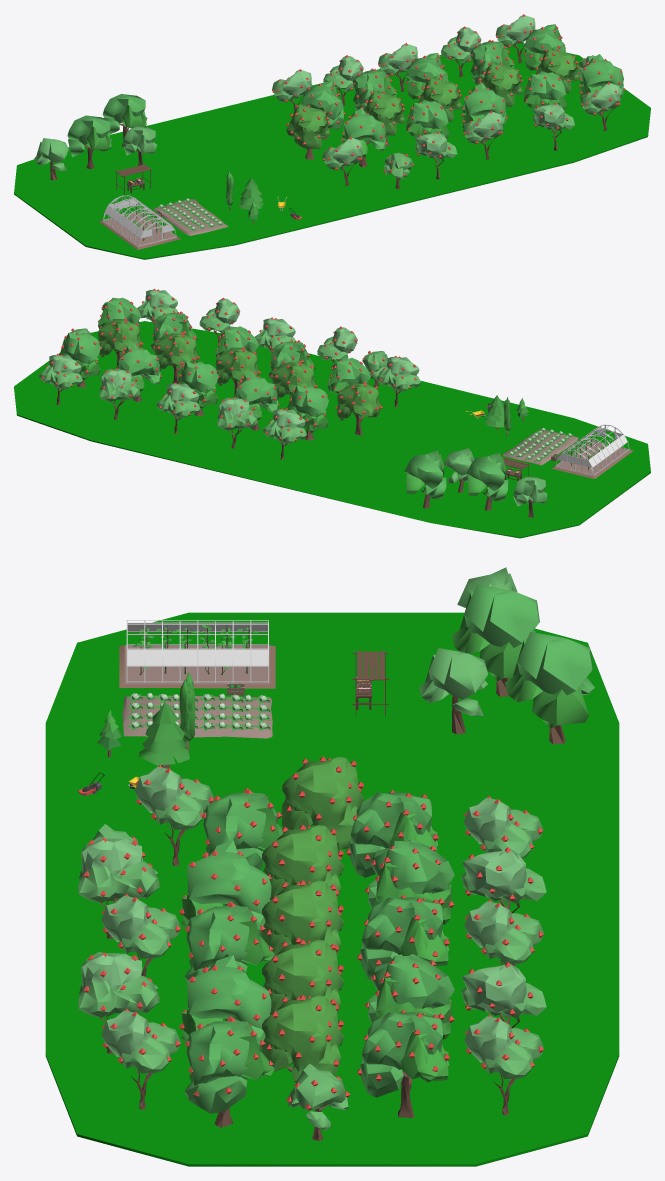
Rendered from barn.glb.
3 views of the same model, one above another, from view 1: azimuth 30°, elevation 25°; view 2: azimuth 150°, elevation 25°; view 3: azimuth 270°, elevation 25° (orthographic). The views are drawn at different scales.
Parts seen in each view (by area): view 1: water_001.004, greenhouse_004.002, plant_004.002, tree_010.013, tree_003.054, tree_003.055, tree_010.012, tree_010.001, tree_010.007, tree_010, tree_010.006, tree_010.014 (+22 smaller); view 2: water_001.004, greenhouse_004.002, tree_003.055, tree_003.054, plant_004.002, tree_010.013, tree_010.014, tree_010.002, tree_010.004, tree_010.005, tree_010.009, tree_010.011 (+22 smaller); view 3: water_001.004, greenhouse_004.002, tree_010.004, tree_003.055, tree_010, tree_003.054, tree_010.003, tree_010.013, tree_010.009, plant_004.002, tree_010.014, tree_010.007 (+24 smaller).
Part boxes in pixels (<box>): water_001.004: <box>14,43,650,259</box>; greenhouse_004.002: <box>99,195,180,249</box>; plant_004.002: <box>154,198,228,235</box>; tree_010.013: <box>286,104,330,159</box>; tree_003.054: <box>67,115,111,169</box>; tree_003.055: <box>102,94,147,146</box>; tree_010.012: <box>341,108,387,167</box>; tree_010.001: <box>523,71,566,110</box>; tree_010.007: <box>406,100,449,138</box>; tree_010: <box>579,54,625,113</box>; tree_010.006: <box>461,83,507,141</box>; tree_010.014: <box>301,81,345,139</box>; water_001.004: <box>14,321,650,538</box>; greenhouse_004.002: <box>552,424,633,478</box>; tree_003.055: <box>404,450,446,508</box>; tree_003.054: <box>466,452,508,510</box>; plant_004.002: <box>502,428,578,465</box>; tree_010.013: <box>335,381,382,435</box>; tree_010.014: <box>286,385,328,440</box>; tree_010.002: <box>155,332,199,383</box>; tree_010.004: <box>59,332,100,387</box>; tree_010.005: <box>116,343,161,401</box>; tree_010.009: <box>177,361,218,416</box>; tree_010.011: <box>233,371,279,430</box>; water_001.004: <box>45,612,619,1166</box>; greenhouse_004.002: <box>119,620,275,688</box>; tree_010.004: <box>357,1010,449,1118</box>; tree_003.055: <box>505,631,594,744</box>; tree_010: <box>184,1016,274,1127</box>; tree_003.054: <box>452,584,539,696</box>; tree_010.003: <box>261,995,343,1105</box>; tree_010.013: <box>281,756,364,850</box>; tree_010.009: <box>357,895,449,980</box>; plant_004.002: <box>122,692,272,738</box>; tree_010.014: <box>346,790,438,877</box>; tree_010.007: <box>179,840,271,927</box>.
Bounding box in the file's own units: 73.89 × 7.05 × 32.47.
3 materials, 1 textured.
